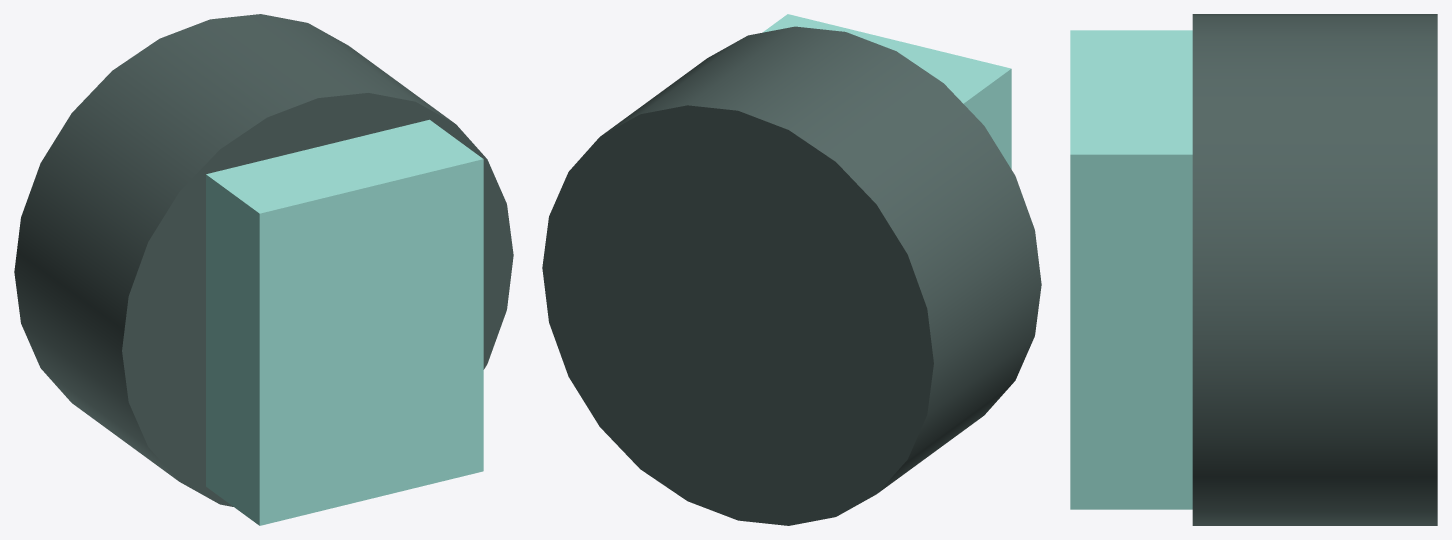
The model's file is turret.glb.
The picture shows the model from 3 angles, left to right: view 1: azimuth 30°, elevation 25°; view 2: azimuth 150°, elevation 25°; view 3: azimuth 270°, elevation 25°; orthographic projection. The views are drawn at different scales.
Parts seen in each view (by area): view 1: shoulder_housing, slew_base; view 2: slew_base, shoulder_housing; view 3: slew_base, shoulder_housing.
Part boxes in pixels (box(x1,y1,x2,y2)): shoulder_housing: box(206, 119, 483, 525); slew_base: box(14, 14, 513, 506); slew_base: box(542, 26, 1041, 525); shoulder_housing: box(763, 14, 1011, 168); slew_base: box(1192, 14, 1437, 525); shoulder_housing: box(1070, 30, 1192, 509).
Size of the model in its own units: 0.21 by 0.21 by 0.15.
